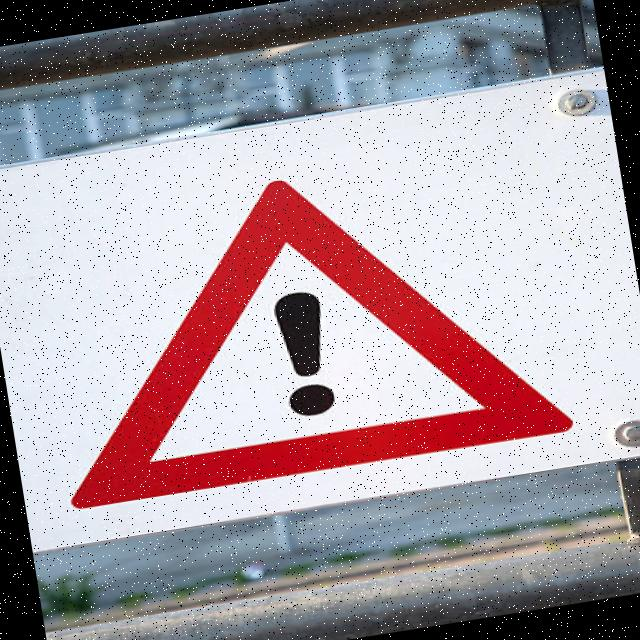warning: (21, 133, 582, 534)
